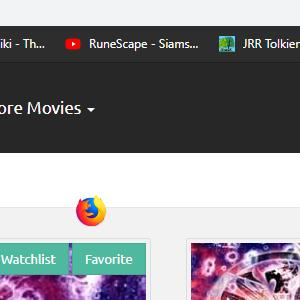firefox: (75, 194, 106, 226)
